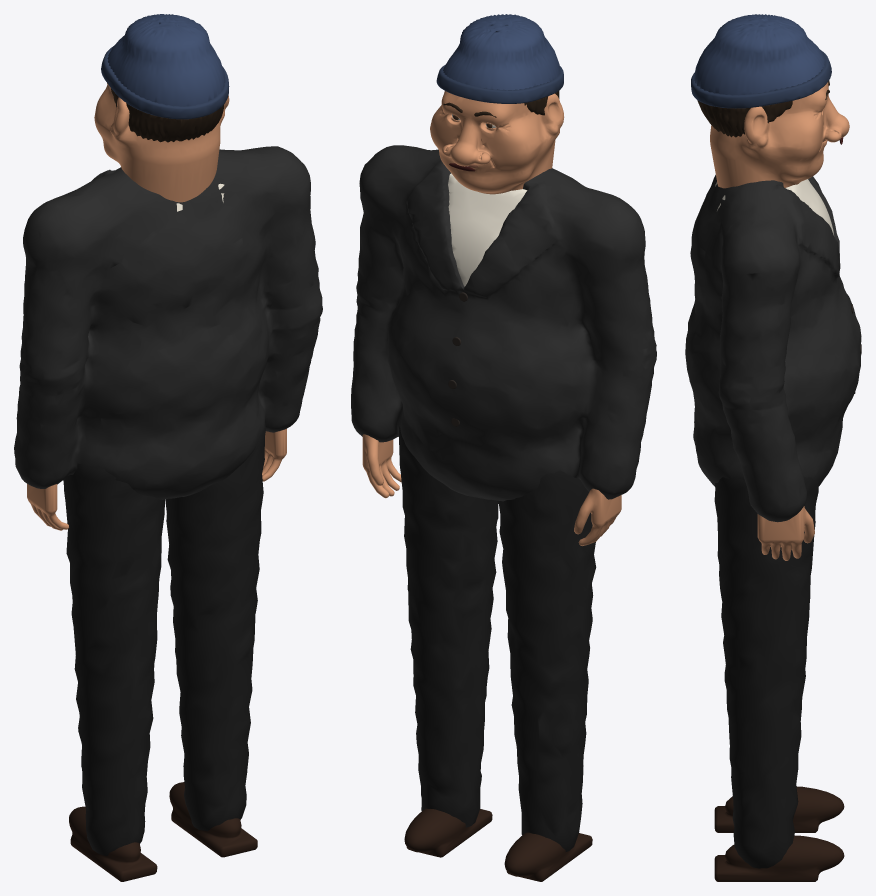
File: sid.fbx
The picture shows the model from 3 angles, left to right: view 1: azimuth 30°, elevation 25°; view 2: azimuth 150°, elevation 25°; view 3: azimuth 270°, elevation 25°; orthographic projection.
Parts seen in each view (by area): view 1: Body, Hat, Head, HandR, HandL; view 2: Body, Head, Hat, HandL, HandR; view 3: Body, Hat, Head, HandL.
Boxes of the visible parts, x1,y1,x2,y2 form: Body: (14,146,322,881); Hat: (101,14,229,119); Head: (94,83,229,202); HandR: (27,484,68,530); HandL: (262,428,286,481); Body: (351,145,656,881); Head: (430,90,564,194); Hat: (436,14,563,103); HandL: (362,434,401,498); HandR: (574,488,621,545); Body: (685,175,861,881); Hat: (691,14,831,108); Head: (697,82,849,188); HandL: (757,506,814,560).
Bounding box in the file's own units: 0.6523 × 1.76 × 0.3402.
